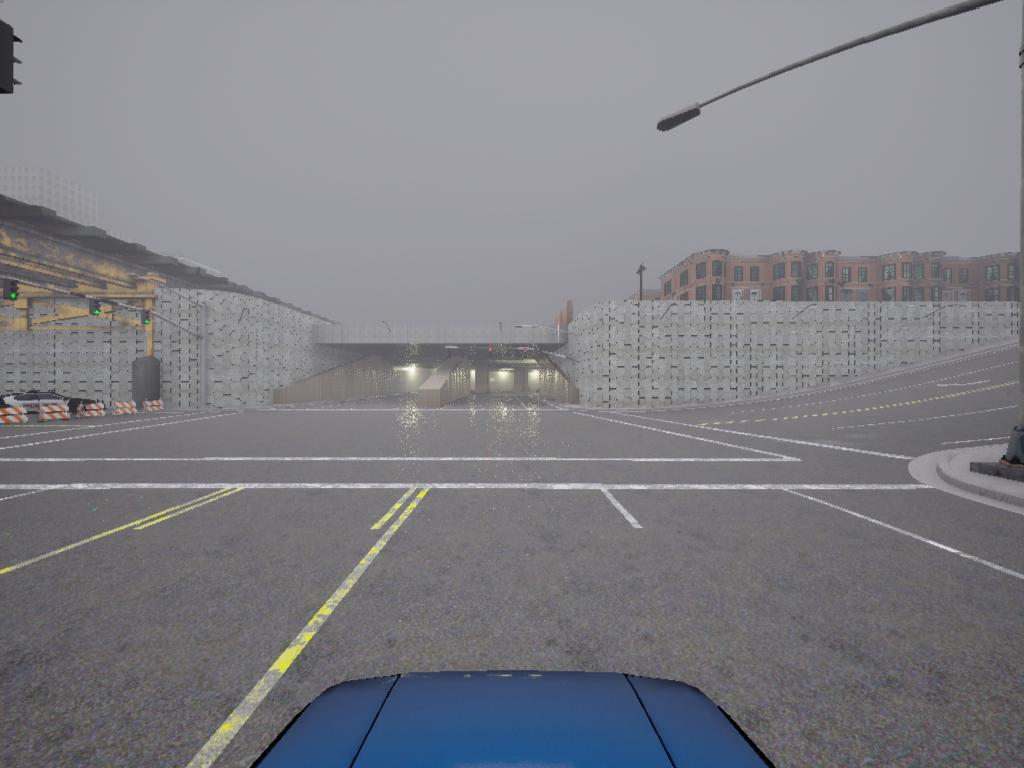traffic_light: (2, 18, 23, 96), (2, 282, 19, 302), (90, 298, 104, 319), (140, 308, 152, 329), (488, 348, 495, 361), (524, 349, 529, 363), (448, 348, 453, 361)
